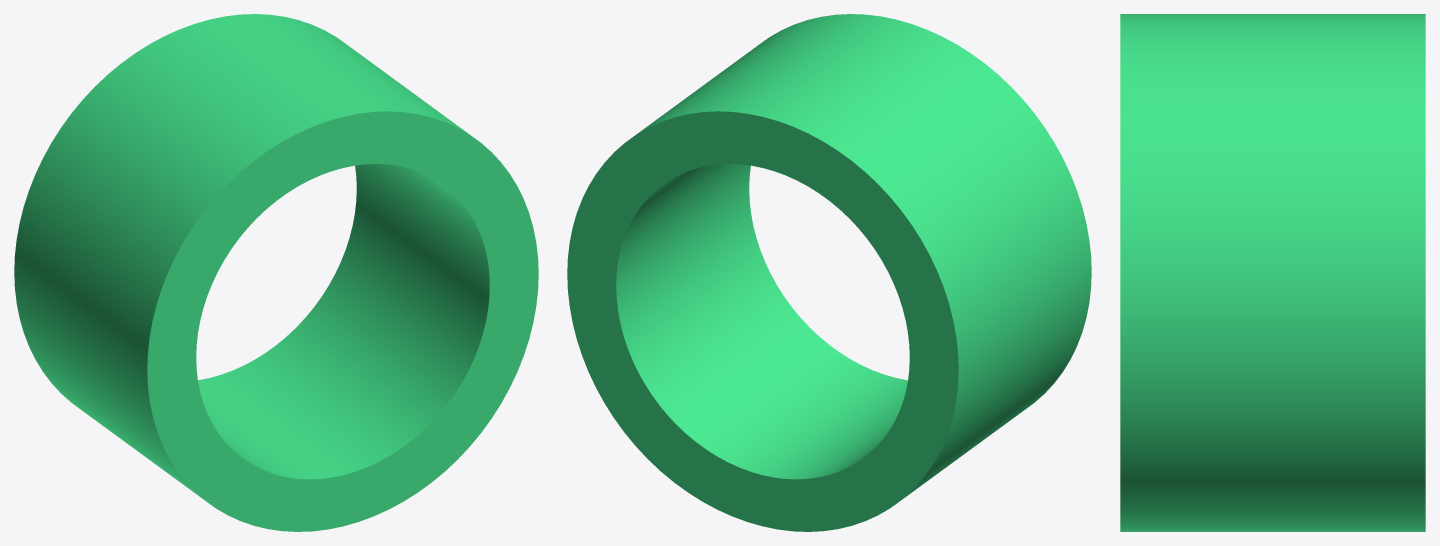
File: Agujero.glb
3 views of the same model, side by side, from view 1: azimuth 30°, elevation 25°; view 2: azimuth 150°, elevation 25°; view 3: azimuth 270°, elevation 25° (orthographic). The views are drawn at different scales.
Parts seen in each view (by area): view 1: mesh_id27; view 2: mesh_id27; view 3: mesh_id27.
Boxes of the visible parts, box(x1,y1,x2,y2) form: mesh_id27: box(14, 14, 538, 531); mesh_id27: box(567, 14, 1091, 531); mesh_id27: box(1120, 14, 1425, 531).
Bounding box in the file's own units: 0.0531 × 0.0531 × 0.0313.
